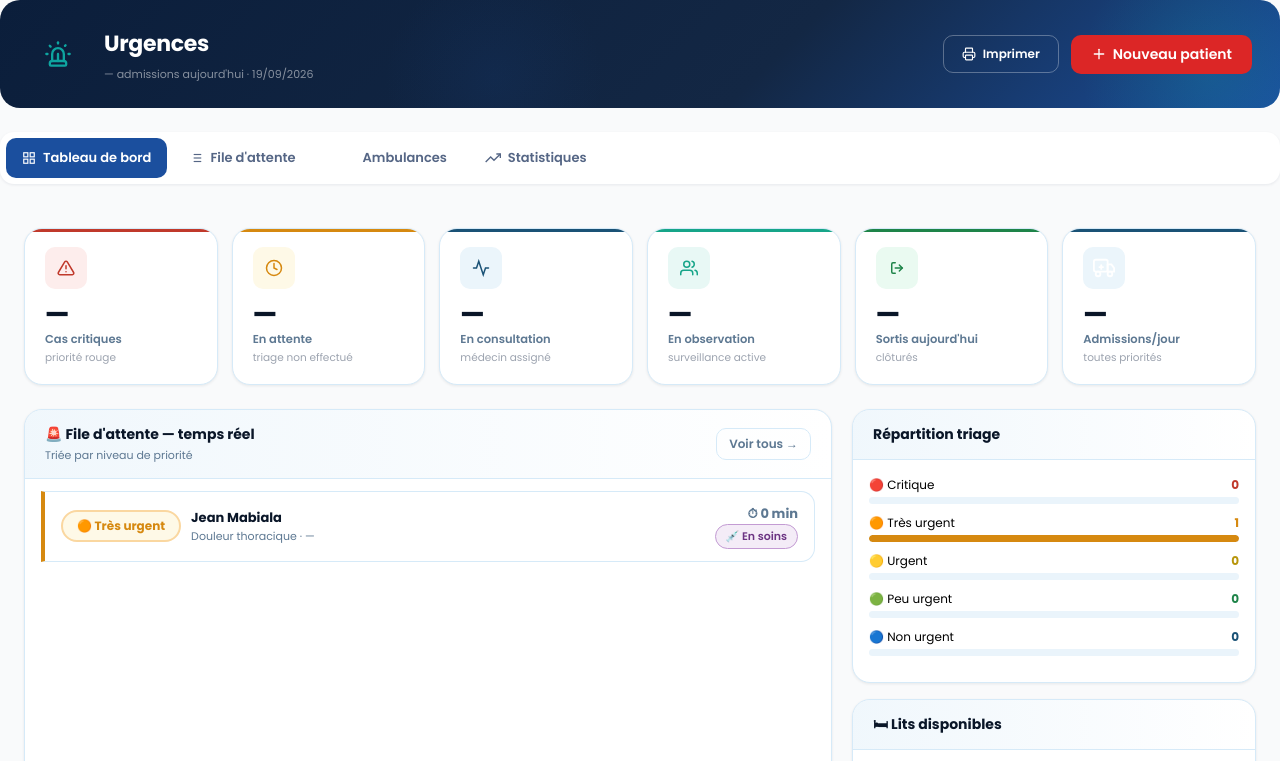
Test case: ANOM-URG-02 — aucun window.prompt, la saisie réelle dans la modale est transmise et affichée
This screenshot has width=1280, height=761.
Click the text "Jean Mabiala" at [428, 526], box [41,490,815,562]
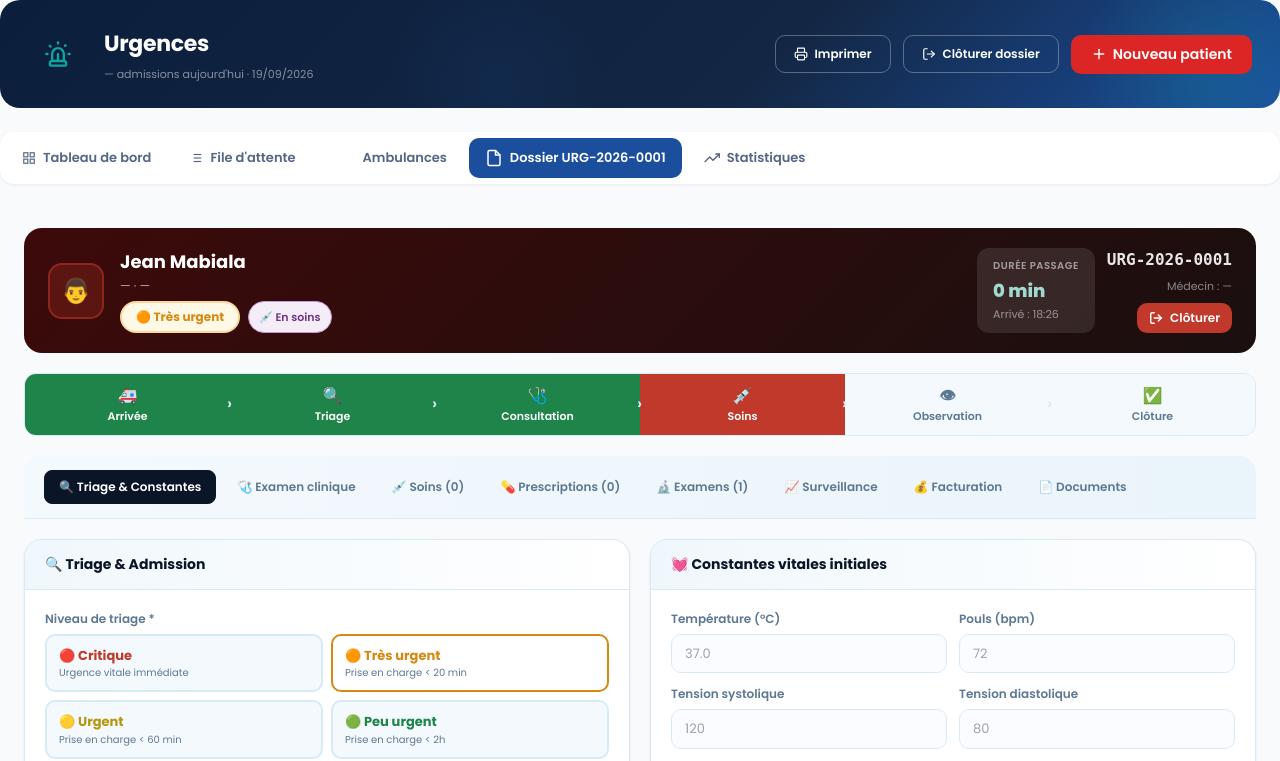
Click the button "🔬 Examens (1)" at [702, 486], box [641,470,763,504]
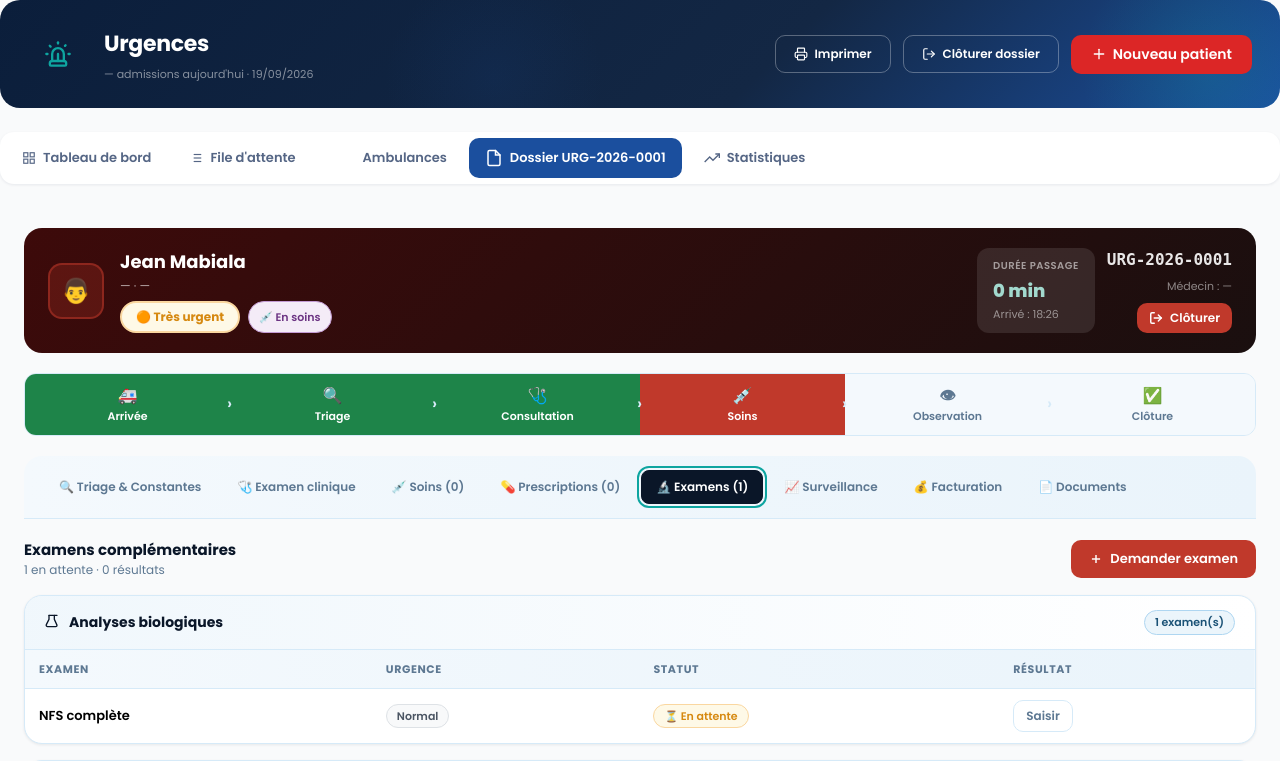
Now the text "NFS complète" is shown, box [25,688,372,743]
Click the button "Saisir" at [1043, 716], box [1013,700,1073,732]
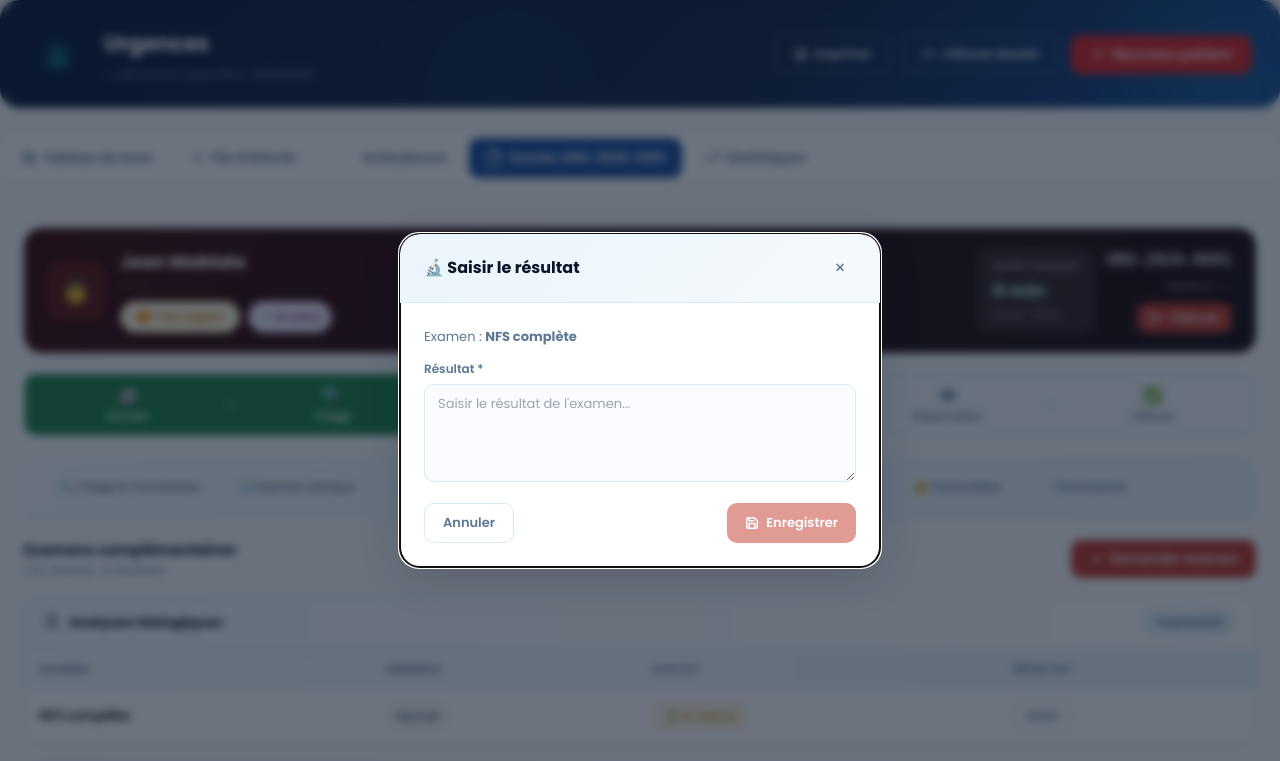
Now the text box with placeholder "Saisir le résultat de l'examen..." is shown
Type "GB 7200/mm3, Hb 13.4 g/dL — normal" into the text box with placeholder "Saisir le résultat de l'examen..." at [640, 433], box [424,384,856,482]
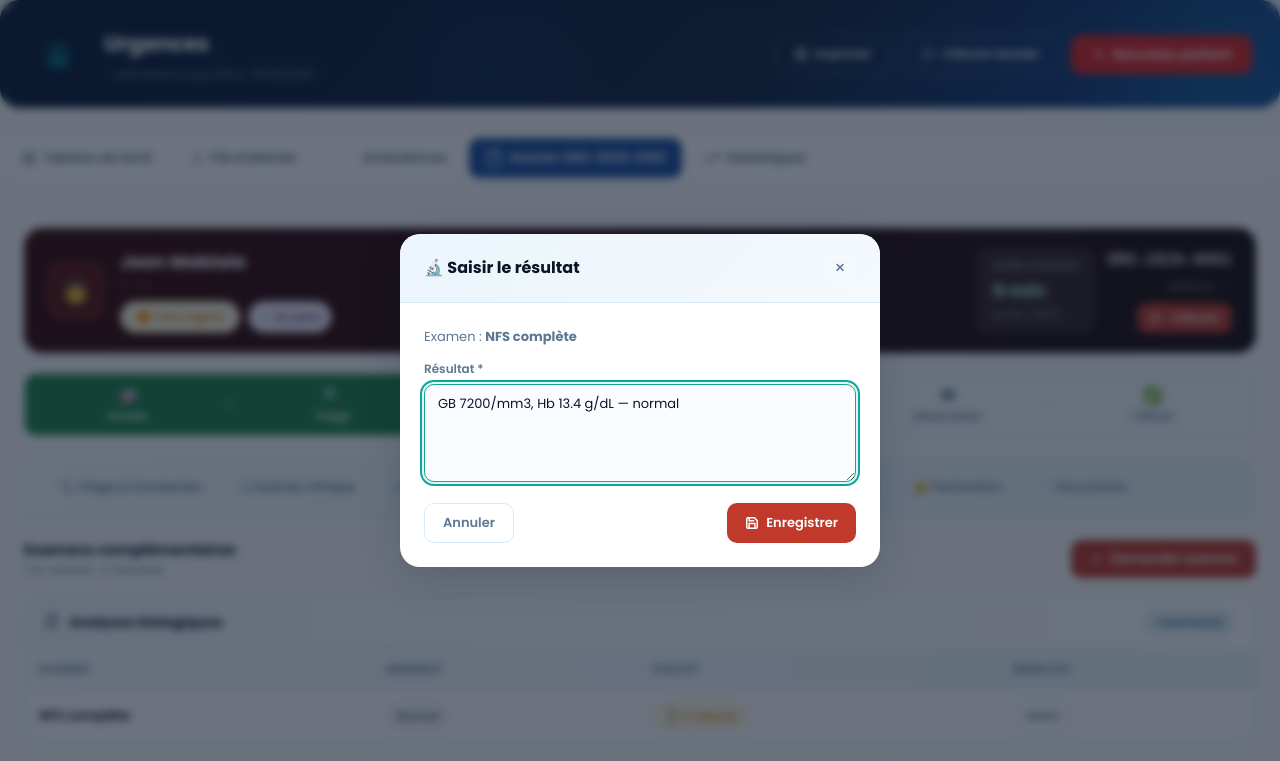
Click the button "Enregistrer" at [792, 523], box [727,503,856,542]
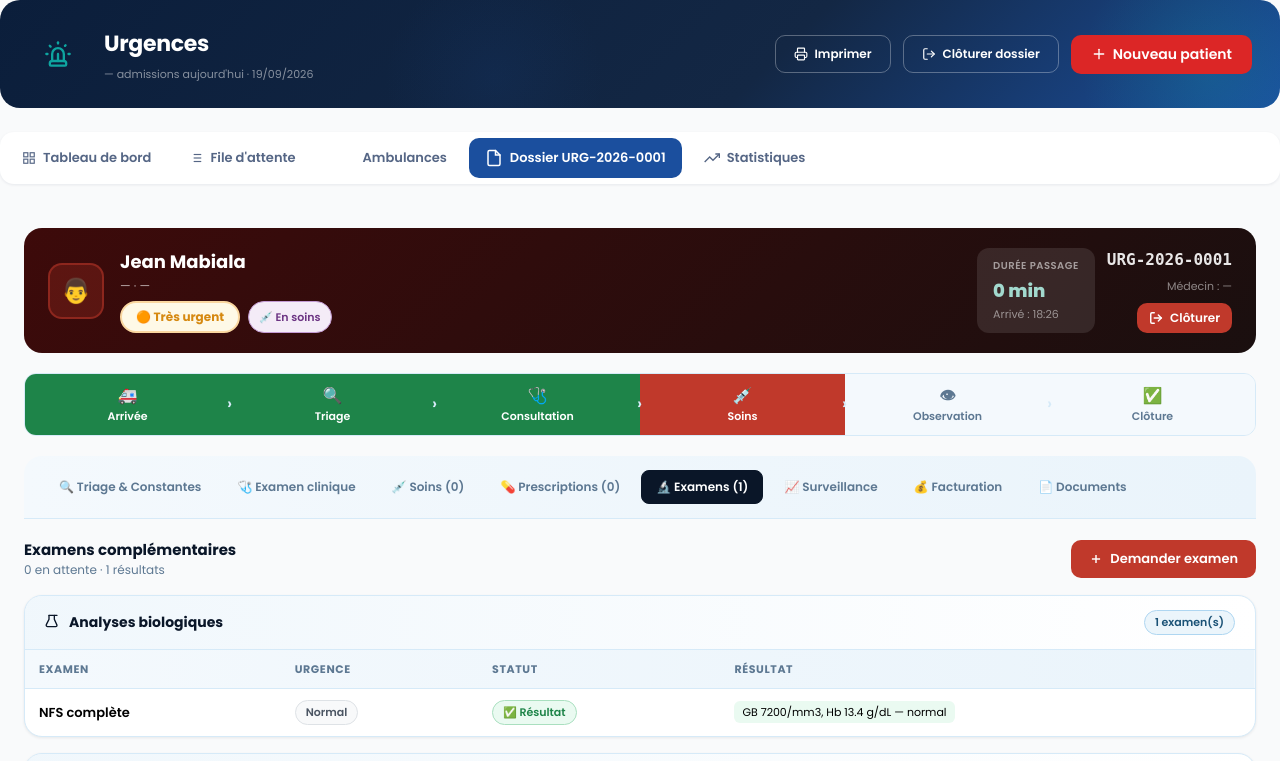
Now the text "GB 7200/mm3, Hb 13.4 g/dL — normal" is shown, box [734,701,955,723]
